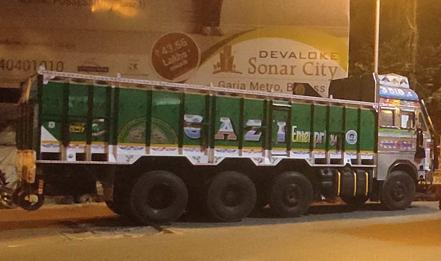Truck: (17, 63, 438, 228)
